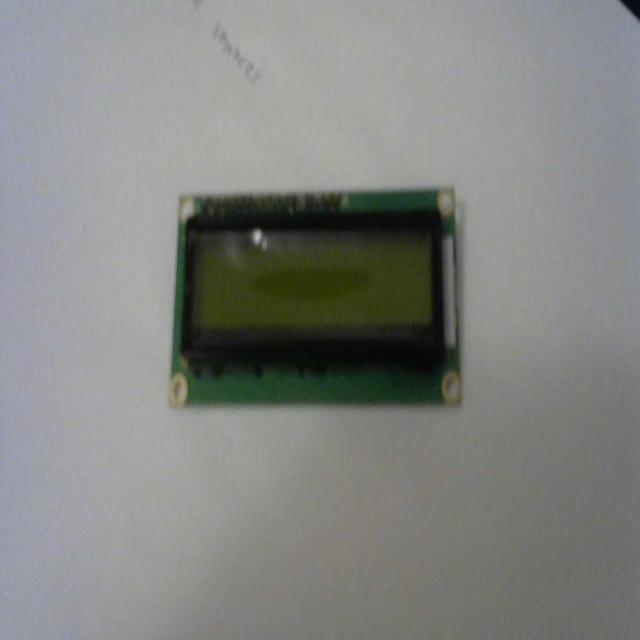lcd: (168, 184, 462, 409)
